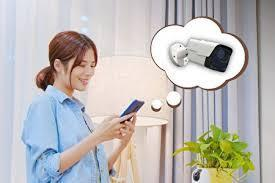maru: (190, 167, 211, 183)
tutu: (185, 38, 235, 73)
